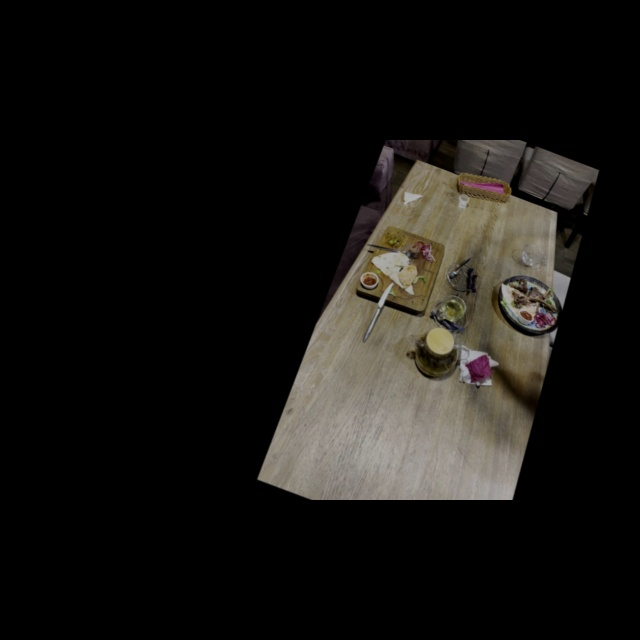графин с чаем: (397, 317, 477, 388)
закуска(пустая тарелка): (351, 220, 453, 318)
мясо(пустая тарелка): (486, 267, 576, 342)
